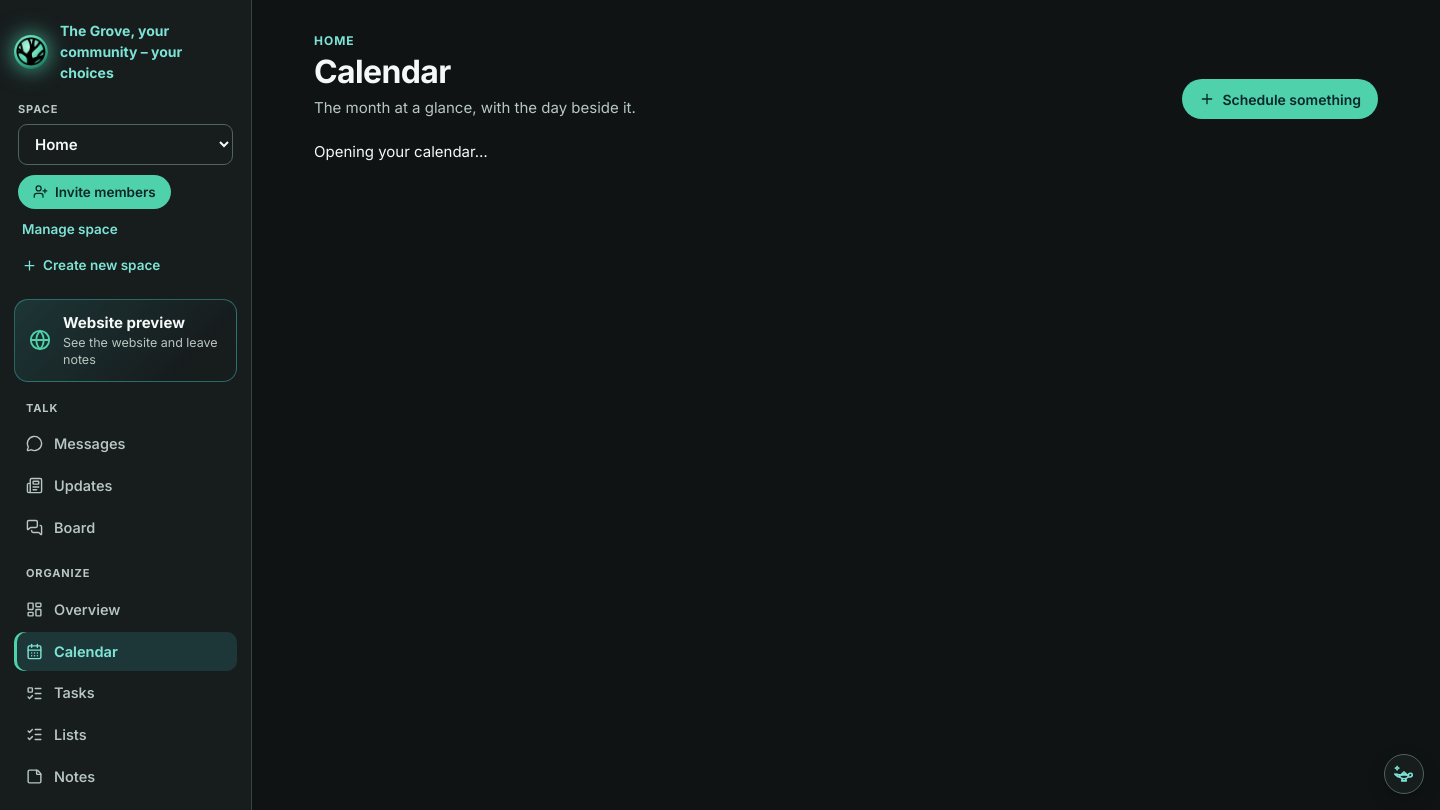
creates and selects a space while preserving the existing space
This screenshot has width=1440, height=810.
Click the button "Create new space" at {"x": 91, "y": 265}, box x1=18 y1=249 x2=164 y2=281
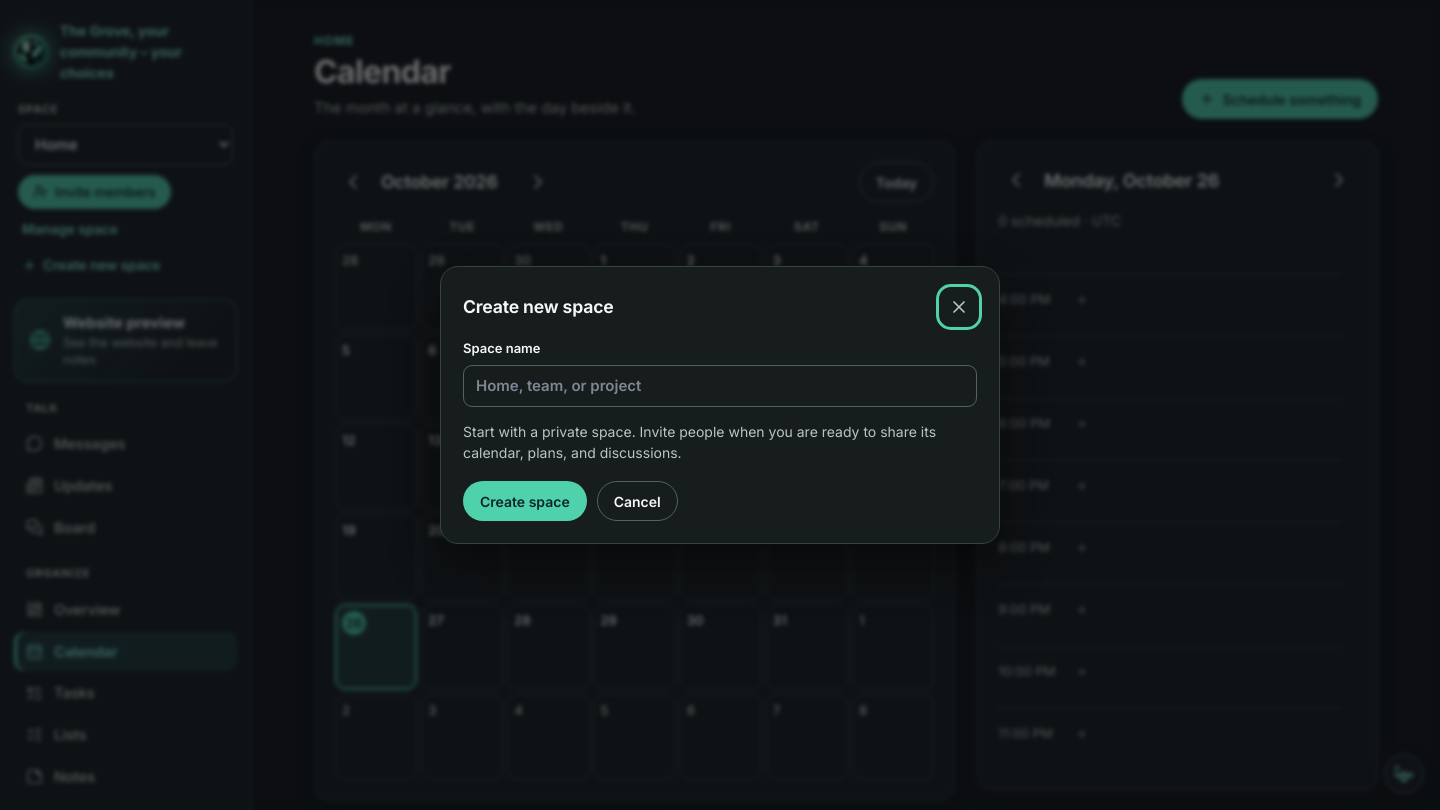
Type "  Team  " into the field labelled "Space name" at {"x": 720, "y": 386}, box x1=463 y1=364 x2=977 y2=407
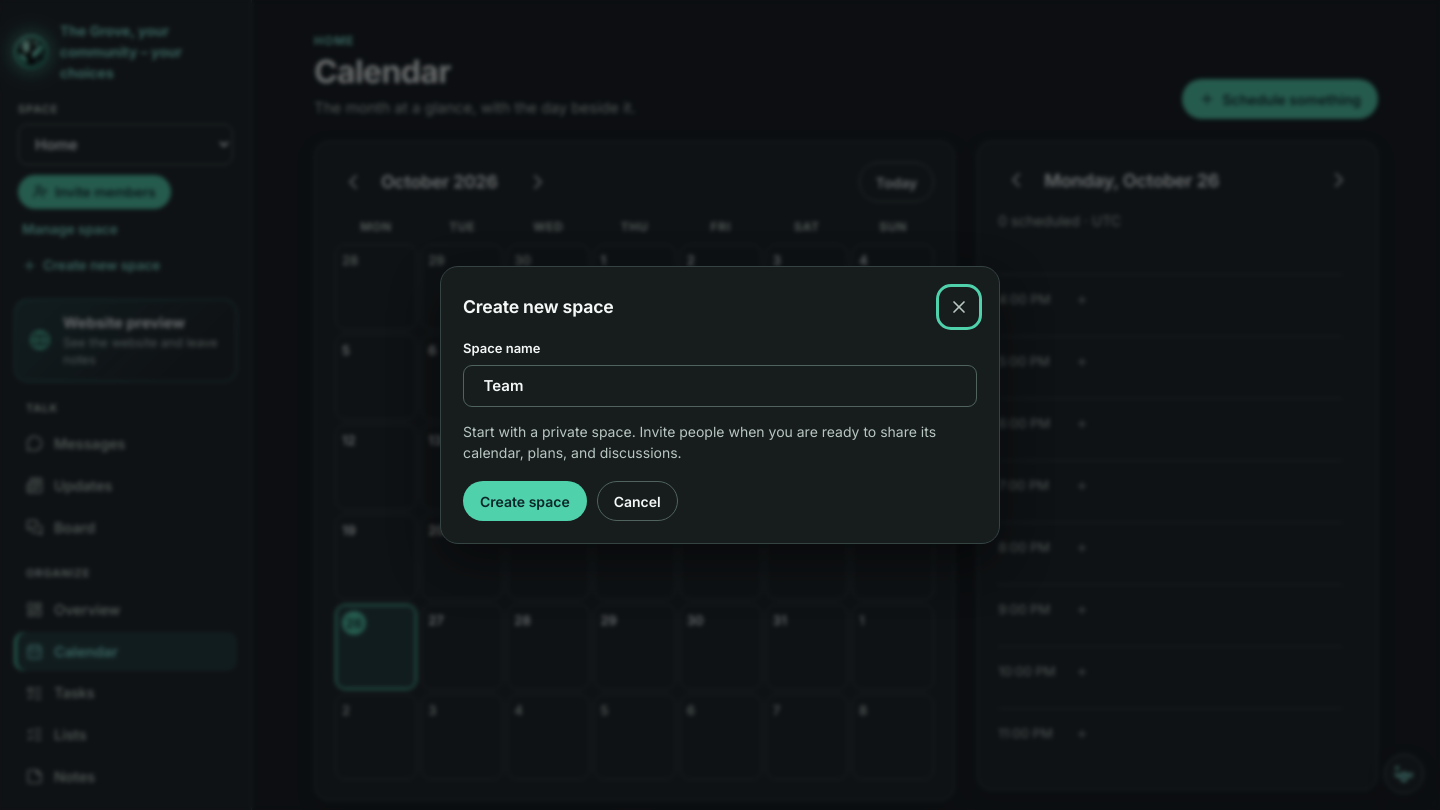
Click the button "Create space" at {"x": 525, "y": 501}, box x1=463 y1=481 x2=587 y2=521
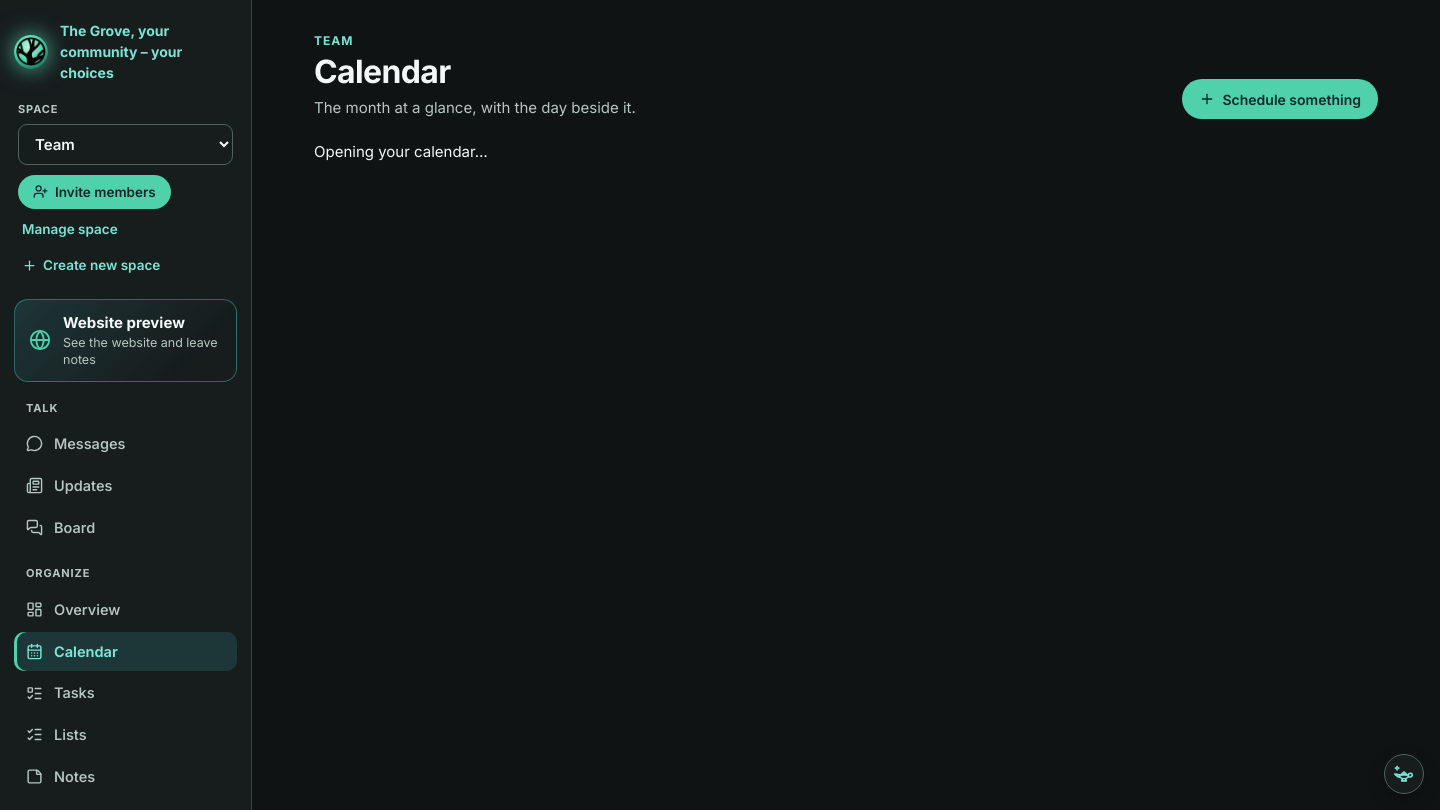
Expected: the dropdown shows "Team", x1=18 y1=124 x2=233 y2=164
